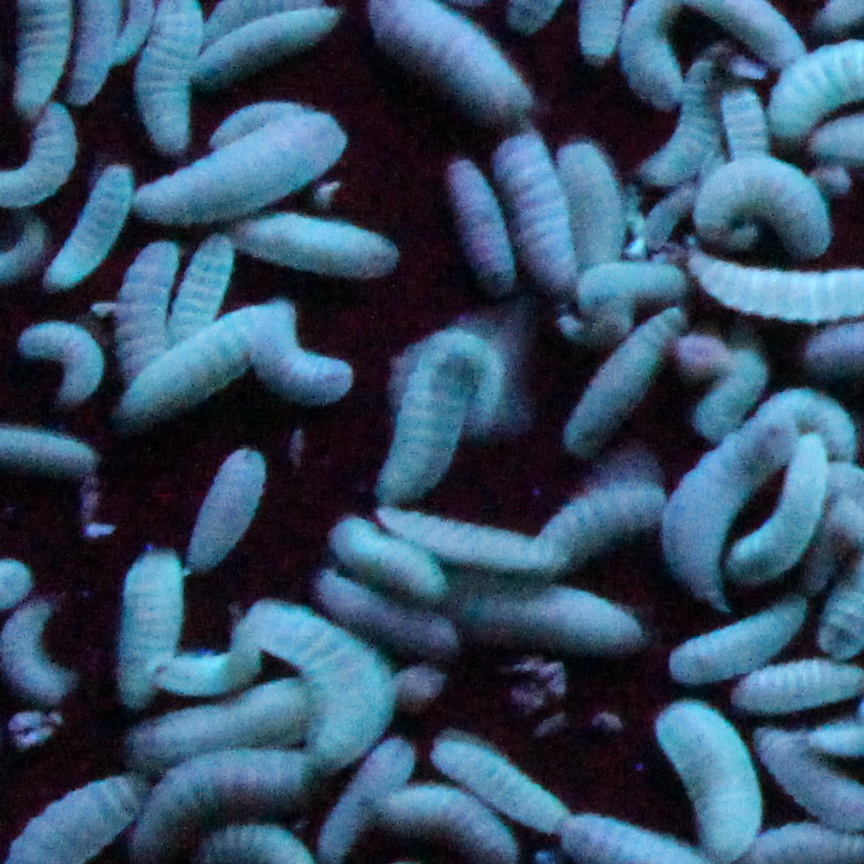larve: (657, 412, 800, 607), (130, 101, 350, 224), (248, 600, 390, 751), (122, 294, 271, 430), (565, 301, 688, 458), (719, 423, 829, 590), (490, 127, 583, 313), (373, 499, 583, 579), (682, 150, 836, 258), (428, 726, 569, 839), (660, 589, 809, 689), (552, 133, 633, 300), (111, 542, 186, 710), (42, 159, 136, 293), (224, 210, 400, 278), (438, 149, 517, 292), (249, 299, 354, 405), (186, 440, 270, 571), (326, 517, 449, 604), (117, 238, 181, 396), (173, 226, 237, 375), (11, 316, 107, 407)
